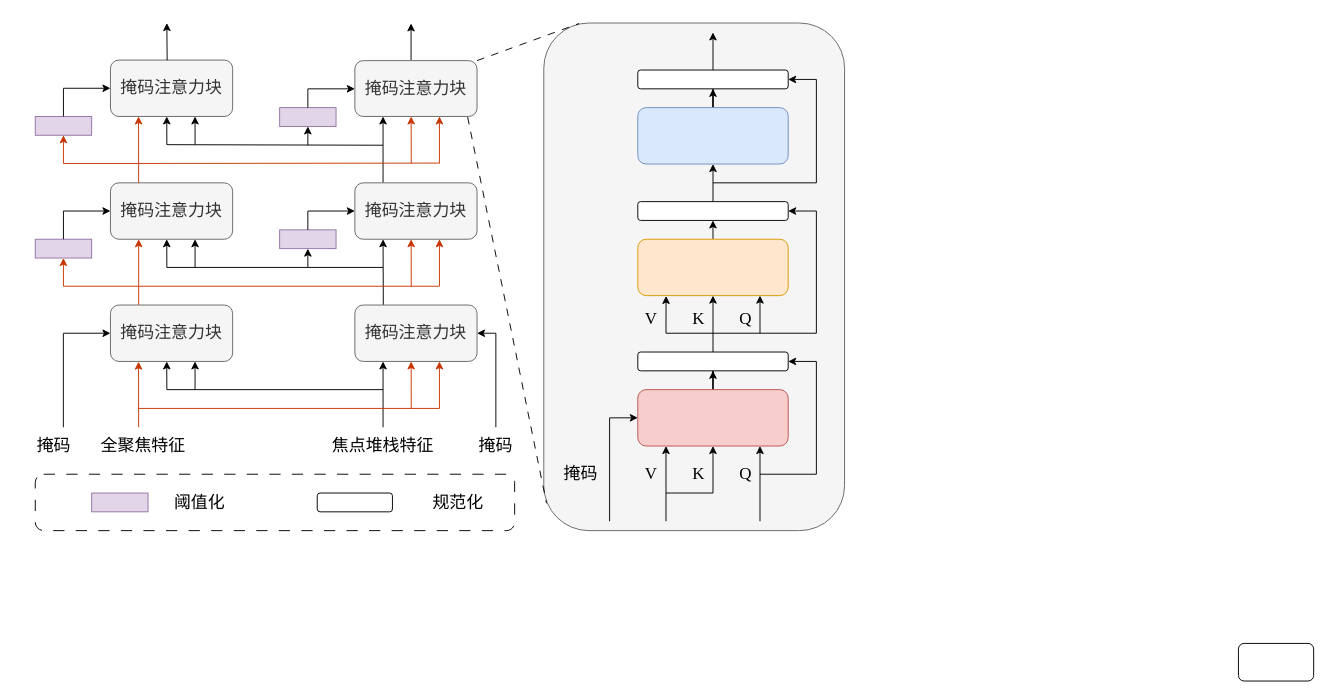
The diagram is 1330 pixels wide and 697 high, and some of its shapes have lost their labels. The shapes that lost their labels are listed below. From the top down, each one's centre as x and y in pixels, then its label:
(x=712, y=135): 前馈神经网络
(x=712, y=267): 自注意力机制
(x=712, y=417): 掩码注意力机制
